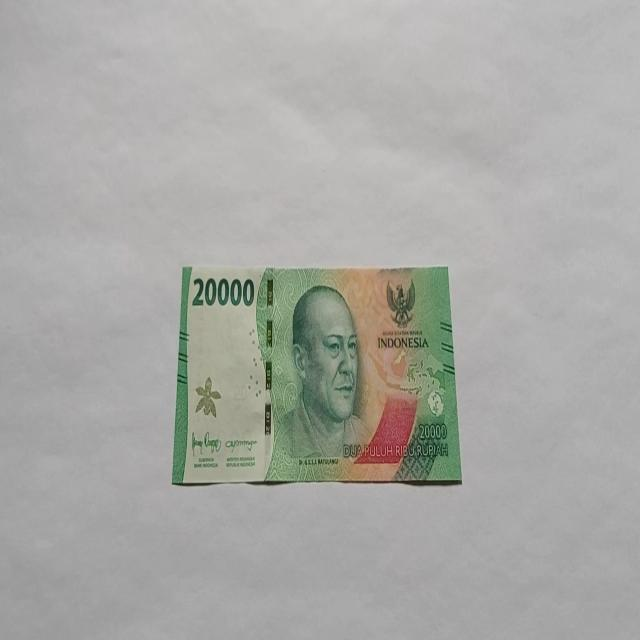dua puluh ribu rupiah: (172, 262, 462, 486)
